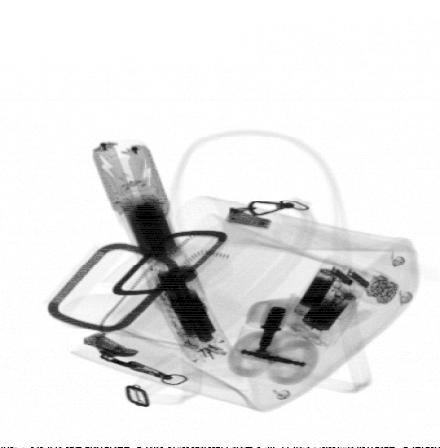Baton: (91, 139, 232, 369)
